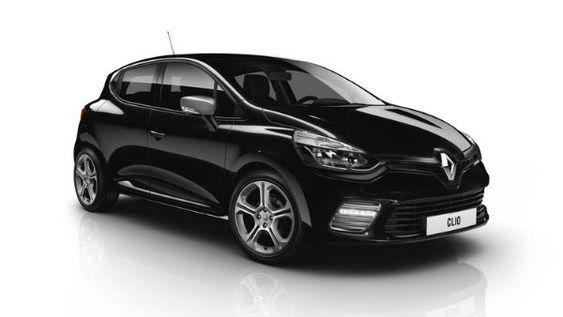Renault: (433, 145, 461, 185)
